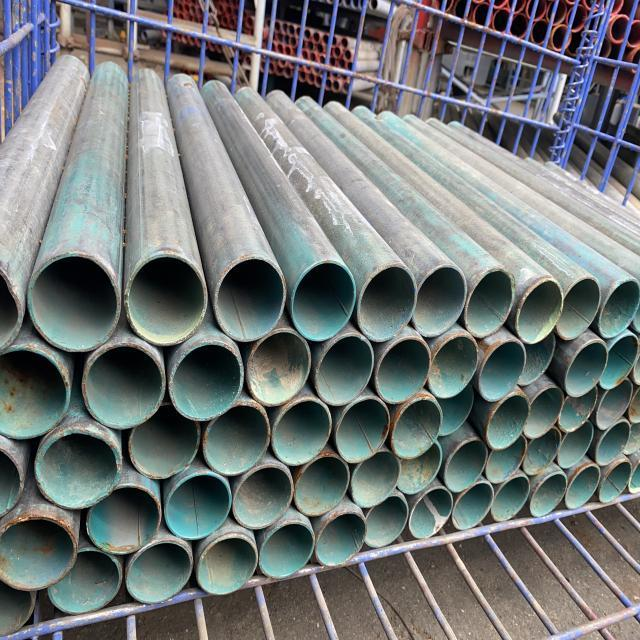pipe: (22, 255, 116, 358), (73, 340, 162, 440), (24, 422, 116, 508), (118, 251, 201, 345), (119, 398, 199, 484), (206, 255, 282, 345), (158, 336, 233, 424), (0, 341, 65, 439), (0, 517, 76, 600), (284, 258, 354, 344), (185, 535, 262, 613), (42, 544, 118, 622), (76, 487, 156, 558), (196, 391, 266, 472), (240, 324, 310, 399), (352, 262, 414, 346), (158, 468, 228, 541), (227, 454, 288, 534), (119, 540, 187, 608), (410, 262, 466, 342), (312, 330, 372, 404), (459, 264, 512, 342), (372, 332, 430, 403), (253, 521, 311, 589), (310, 508, 368, 576), (330, 396, 386, 464), (268, 399, 324, 466), (424, 331, 476, 402), (509, 274, 559, 347), (286, 450, 342, 512), (386, 396, 437, 460), (352, 493, 404, 555), (476, 336, 522, 404), (342, 446, 394, 506), (434, 429, 481, 492), (444, 480, 488, 547), (554, 272, 596, 342), (594, 275, 638, 341), (429, 378, 474, 442), (482, 386, 523, 454), (560, 338, 602, 401), (406, 480, 448, 542), (516, 379, 556, 444), (552, 382, 594, 442), (524, 463, 560, 523), (596, 333, 632, 392), (586, 375, 628, 425), (516, 330, 549, 390), (486, 472, 524, 522), (390, 440, 428, 488), (479, 436, 518, 482), (588, 424, 630, 464), (552, 422, 586, 470), (558, 463, 592, 510), (596, 462, 625, 514), (520, 426, 554, 470), (0, 580, 24, 636), (0, 274, 16, 354), (0, 451, 20, 513), (626, 334, 640, 393), (626, 278, 639, 340), (621, 411, 640, 453), (624, 378, 640, 426), (625, 449, 640, 499)
